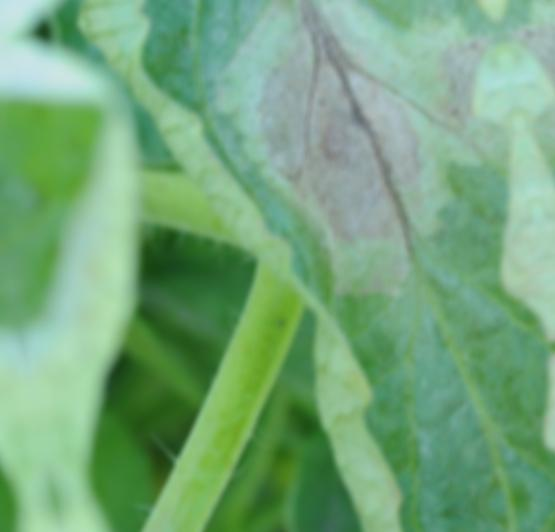Tomato leaf late blight: (45, 0, 555, 532)
